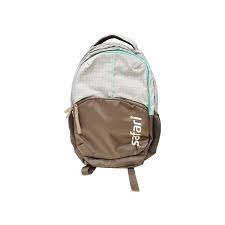backpack: (64, 34, 161, 191)
